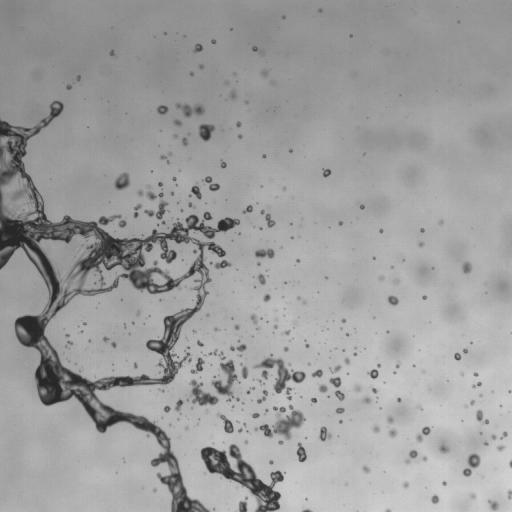droplet: (404, 449, 427, 464), (198, 123, 215, 141), (113, 172, 130, 190), (190, 356, 205, 374), (188, 181, 201, 200), (233, 495, 248, 511), (318, 426, 332, 441), (476, 409, 489, 424), (257, 273, 269, 285), (461, 261, 472, 273), (366, 368, 378, 379), (488, 499, 499, 511), (317, 383, 328, 394), (198, 113, 209, 124), (7, 115, 18, 126), (189, 130, 200, 141), (24, 138, 35, 149), (121, 209, 132, 220), (81, 211, 92, 222), (48, 212, 59, 223), (103, 223, 114, 234), (109, 227, 120, 238), (213, 231, 224, 242), (13, 246, 24, 257), (203, 249, 214, 260), (207, 266, 218, 277), (35, 276, 46, 287), (39, 286, 50, 297), (29, 305, 40, 316), (240, 317, 251, 328), (179, 323, 190, 334), (343, 338, 354, 349), (170, 343, 181, 354), (189, 346, 200, 357), (226, 350, 237, 361), (280, 352, 291, 363), (181, 361, 192, 372), (285, 361, 296, 372), (267, 366, 278, 377), (217, 371, 228, 382), (319, 373, 330, 384), (239, 377, 250, 388), (181, 387, 192, 398), (275, 392, 286, 403), (113, 401, 124, 412), (388, 402, 399, 413), (265, 415, 276, 426), (155, 418, 166, 429), (113, 420, 124, 431), (482, 424, 493, 435), (227, 432, 238, 443), (217, 441, 228, 452), (415, 442, 426, 453), (152, 444, 163, 455), (499, 450, 510, 461), (158, 462, 169, 473), (212, 471, 223, 482), (226, 478, 237, 489), (239, 485, 250, 496), (161, 490, 172, 501), (496, 493, 507, 504), (246, 499, 257, 510), (241, 204, 253, 214), (387, 295, 399, 305), (328, 364, 341, 373), (192, 43, 203, 53), (311, 369, 322, 379), (387, 427, 397, 438), (156, 105, 168, 114), (438, 444, 450, 453), (228, 89, 237, 100), (430, 494, 439, 504), (361, 396, 372, 404), (260, 69, 269, 78), (322, 168, 331, 177), (262, 293, 271, 302), (371, 424, 380, 433), (235, 93, 244, 102), (174, 109, 183, 118), (176, 127, 185, 136), (199, 183, 208, 192), (161, 184, 170, 193), (183, 207, 192, 216), (124, 213, 133, 222), (208, 219, 217, 228), (258, 285, 267, 294), (199, 303, 208, 312), (202, 343, 211, 352), (211, 355, 220, 364), (233, 366, 242, 375), (192, 372, 201, 381), (28, 377, 37, 386), (371, 377, 380, 386), (285, 378, 294, 387), (229, 382, 238, 391), (326, 383, 335, 392), (111, 384, 120, 393), (208, 387, 217, 396), (316, 391, 325, 400), (217, 393, 226, 402), (52, 401, 61, 410), (254, 403, 263, 412), (132, 407, 141, 416), (255, 416, 264, 425), (474, 420, 483, 429), (379, 425, 388, 434), (137, 428, 146, 437), (271, 432, 280, 441), (488, 439, 497, 448), (411, 441, 420, 450), (214, 442, 223, 451), (262, 476, 271, 485), (181, 477, 190, 486), (272, 482, 281, 491), (186, 490, 195, 499), (352, 384, 362, 392), (65, 340, 73, 349), (386, 415, 394, 424), (361, 465, 370, 473), (472, 381, 482, 388), (505, 435, 511, 446), (161, 505, 172, 511), (429, 505, 440, 511), (370, 386, 378, 394), (173, 119, 182, 126), (454, 352, 461, 361), (343, 356, 350, 365), (310, 396, 317, 405), (250, 412, 259, 419), (292, 319, 298, 329), (188, 202, 196, 209), (196, 339, 204, 346), (163, 405, 171, 412), (402, 481, 409, 489), (182, 137, 188, 146), (220, 159, 226, 168), (335, 407, 344, 413), (496, 445, 505, 451), (109, 49, 116, 56), (102, 336, 109, 343), (469, 492, 476, 499), (192, 66, 199, 73), (267, 71, 274, 78), (223, 87, 230, 94), (188, 101, 195, 108), (201, 102, 208, 109), (167, 103, 174, 110), (43, 108, 50, 115), (172, 125, 179, 132), (236, 126, 243, 133), (209, 130, 216, 137), (20, 155, 27, 162), (109, 175, 116, 182), (127, 175, 134, 182), (31, 177, 38, 184), (108, 182, 115, 189), (121, 186, 128, 193), (152, 187, 159, 194), (161, 194, 168, 201), (180, 201, 187, 208), (151, 205, 158, 212), (252, 205, 259, 212), (161, 212, 168, 219), (196, 212, 203, 219), (70, 213, 77, 220), (203, 219, 210, 226), (232, 224, 239, 231), (226, 227, 233, 234), (187, 228, 194, 235), (144, 229, 151, 236), (261, 243, 268, 250), (461, 255, 468, 262), (464, 255, 471, 262), (7, 256, 14, 263), (470, 264, 477, 271), (455, 265, 462, 272), (252, 277, 259, 284), (204, 282, 211, 289), (203, 295, 210, 302), (17, 310, 24, 317), (275, 310, 282, 317), (278, 324, 285, 331), (16, 342, 23, 349), (345, 350, 352, 357), (256, 355, 263, 362), (33, 358, 40, 365), (190, 358, 197, 365), (337, 358, 344, 365), (340, 363, 347, 370), (246, 367, 253, 374), (304, 373, 311, 380), (220, 379, 227, 386), (167, 380, 174, 387), (124, 384, 131, 391), (93, 388, 100, 395), (367, 391, 374, 398), (239, 392, 246, 399), (69, 395, 76, 402), (102, 398, 109, 405), (282, 399, 289, 406), (336, 400, 343, 407), (168, 401, 175, 408), (77, 403, 84, 410), (284, 408, 291, 415), (336, 412, 343, 419), (84, 414, 91, 421), (147, 415, 154, 422), (217, 419, 224, 426), (88, 420, 95, 427), (300, 421, 307, 428), (232, 422, 239, 429), (388, 422, 395, 429), (105, 425, 112, 432), (289, 426, 296, 433), (148, 432, 155, 439), (277, 433, 284, 440), (494, 438, 501, 445), (499, 438, 506, 445), (442, 439, 449, 446), (204, 440, 211, 447), (169, 445, 176, 452), (158, 446, 165, 453), (416, 449, 423, 456), (439, 452, 446, 459), (240, 454, 247, 461), (198, 459, 205, 466), (478, 459, 485, 466), (462, 461, 469, 468), (470, 466, 477, 473), (179, 470, 186, 477), (161, 483, 168, 490), (232, 503, 239, 510), (395, 360, 401, 368), (110, 341, 116, 348), (462, 347, 468, 354), (416, 404, 423, 410), (418, 241, 424, 247), (378, 275, 384, 281), (234, 324, 240, 330), (283, 346, 289, 352), (491, 434, 497, 440), (359, 202, 364, 209), (392, 278, 399, 283), (213, 326, 220, 331), (211, 38, 216, 44), (252, 46, 258, 51), (198, 64, 204, 69), (269, 80, 275, 85), (66, 84, 72, 89), (236, 121, 241, 127), (438, 219, 443, 225), (251, 223, 257, 228), (459, 371, 465, 376), (470, 400, 475, 406), (152, 487, 157, 493), (136, 310, 140, 317), (133, 362, 137, 369), (507, 430, 511, 437), (495, 507, 502, 511), (189, 71, 194, 76), (224, 80, 229, 85), (173, 134, 178, 139), (237, 134, 242, 139), (338, 221, 343, 226), (341, 318, 346, 323), (345, 332, 350, 337), (473, 372, 478, 377), (201, 43, 206, 48), (190, 44, 195, 49), (256, 44, 261, 49), (196, 50, 201, 55), (71, 74, 76, 79), (66, 79, 71, 84), (235, 90, 240, 95), (58, 97, 63, 102), (47, 98, 52, 103), (161, 100, 166, 105), (179, 100, 184, 105), (152, 108, 157, 113), (164, 111, 169, 116), (159, 113, 164, 118), (38, 114, 43, 119), (0, 116, 5, 121), (52, 116, 57, 121), (4, 117, 9, 122), (169, 121, 174, 126), (240, 121, 245, 126), (47, 122, 52, 127), (24, 123, 29, 128), (39, 127, 44, 132), (33, 133, 38, 138), (177, 135, 182, 140), (186, 136, 191, 141), (197, 136, 202, 141), (24, 145, 29, 150), (181, 145, 186, 150), (216, 160, 221, 165), (24, 168, 29, 173), (30, 175, 35, 180), (175, 178, 180, 183), (211, 178, 216, 183), (171, 186, 176, 191), (142, 188, 147, 193), (213, 189, 218, 194), (191, 193, 196, 198), (249, 200, 254, 205), (163, 204, 168, 209), (136, 208, 141, 213), (113, 209, 118, 214), (184, 212, 189, 217), (104, 213, 109, 218), (151, 214, 156, 219), (230, 214, 235, 219), (120, 215, 125, 220), (269, 215, 274, 220), (85, 217, 90, 222), (93, 217, 98, 222), (114, 217, 119, 222), (156, 218, 161, 223), (262, 219, 267, 224), (165, 228, 170, 233), (135, 233, 140, 238), (126, 234, 131, 239), (208, 237, 213, 242), (413, 240, 418, 245), (422, 244, 427, 249), (202, 245, 207, 250), (221, 245, 226, 250), (418, 246, 423, 251), (273, 250, 278, 255), (250, 251, 255, 256), (263, 254, 268, 259), (23, 255, 28, 260), (217, 256, 222, 261), (256, 256, 261, 261), (202, 259, 207, 264), (28, 261, 33, 266), (31, 265, 36, 270), (224, 265, 229, 270), (218, 267, 223, 272), (261, 270, 266, 275), (253, 271, 258, 276), (207, 272, 212, 277), (465, 272, 470, 277), (268, 291, 273, 296), (391, 291, 396, 296), (259, 293, 264, 298), (267, 298, 272, 303), (297, 299, 302, 304), (397, 300, 402, 305), (385, 301, 390, 306), (248, 309, 253, 314), (193, 311, 198, 316), (341, 313, 346, 318), (262, 315, 267, 320), (10, 318, 15, 323), (247, 318, 252, 323), (232, 319, 237, 324), (256, 319, 261, 324), (269, 320, 274, 325), (341, 322, 346, 327), (229, 325, 234, 330), (268, 326, 273, 331), (274, 328, 279, 333), (341, 328, 346, 333), (235, 329, 240, 334), (251, 329, 256, 334), (10, 330, 15, 335), (288, 331, 293, 336), (13, 337, 18, 342), (239, 339, 244, 344), (283, 341, 288, 346), (300, 341, 305, 346), (233, 342, 238, 347), (245, 343, 250, 348), (196, 345, 201, 350), (209, 346, 214, 351), (336, 347, 341, 352), (233, 348, 238, 353), (241, 349, 246, 354), (459, 351, 464, 356), (264, 353, 269, 358), (178, 354, 183, 359), (272, 354, 277, 359), (348, 354, 353, 359), (201, 355, 206, 360), (222, 358, 227, 363), (330, 363, 335, 368), (372, 364, 377, 369), (311, 367, 316, 372), (376, 367, 381, 372), (197, 370, 202, 375), (331, 373, 336, 378), (173, 374, 178, 379), (246, 374, 251, 379), (376, 374, 381, 379), (214, 376, 219, 381), (260, 376, 265, 381), (474, 376, 479, 381), (339, 377, 344, 382), (195, 378, 200, 383), (301, 378, 306, 383), (232, 379, 237, 384), (254, 381, 259, 386), (146, 383, 151, 388), (158, 383, 163, 388), (188, 384, 193, 389), (337, 385, 342, 390), (375, 391, 380, 396), (258, 392, 263, 397), (180, 395, 185, 400), (343, 395, 348, 400), (230, 398, 235, 403), (392, 398, 397, 403), (288, 399, 293, 404), (465, 399, 470, 404), (260, 400, 265, 405), (369, 400, 374, 405), (39, 402, 44, 407), (205, 402, 210, 407), (275, 402, 280, 407), (362, 402, 367, 407), (179, 404, 184, 409), (292, 405, 297, 410), (268, 407, 273, 412), (415, 408, 420, 413), (271, 409, 276, 414), (160, 410, 165, 415), (302, 412, 307, 417), (471, 413, 476, 418), (225, 414, 230, 419), (392, 414, 397, 419), (481, 414, 486, 419), (368, 422, 373, 427), (420, 422, 425, 427), (248, 427, 253, 432), (326, 427, 331, 432), (368, 428, 373, 433), (417, 428, 422, 433), (258, 429, 263, 434), (315, 429, 320, 434), (240, 430, 245, 435), (428, 430, 433, 435), (165, 431, 170, 436), (223, 431, 228, 436), (375, 431, 380, 436), (497, 431, 502, 436), (395, 432, 400, 437), (411, 436, 416, 441), (486, 437, 491, 442), (317, 439, 322, 444), (301, 442, 306, 447), (279, 443, 284, 448), (293, 445, 298, 450), (493, 448, 498, 453), (501, 448, 506, 453), (469, 449, 474, 454), (475, 450, 480, 455), (153, 453, 158, 458), (404, 453, 409, 458), (426, 456, 431, 461), (304, 457, 309, 462), (177, 460, 182, 465), (419, 460, 424, 465), (504, 461, 509, 466), (366, 462, 371, 467), (357, 466, 362, 471), (360, 470, 365, 475), (460, 474, 465, 479), (465, 475, 470, 480), (155, 478, 160, 483), (398, 479, 403, 484), (232, 480, 237, 485), (408, 482, 413, 487), (399, 486, 404, 491), (147, 487, 152, 492), (470, 487, 475, 492), (503, 491, 508, 496), (427, 493, 432, 498), (437, 494, 442, 499), (475, 494, 480, 499), (239, 496, 244, 501), (490, 496, 495, 501), (276, 498, 281, 503), (437, 498, 442, 503), (470, 498, 475, 503), (485, 502, 490, 507), (203, 503, 208, 508), (385, 503, 390, 508), (303, 504, 308, 509), (76, 75, 80, 81), (296, 296, 302, 300), (317, 8, 322, 12), (288, 148, 292, 153), (172, 176, 176, 181), (282, 186, 286, 191), (379, 228, 383, 233), (420, 228, 425, 232), (256, 261, 260, 266), (422, 295, 427, 299), (302, 300, 306, 305), (65, 333, 69, 338), (377, 363, 381, 368), (397, 397, 401, 402), (244, 439, 248, 444), (278, 440, 283, 444), (483, 441, 488, 445), (442, 480, 446, 485), (281, 15, 285, 19), (232, 72, 236, 76), (244, 100, 248, 104), (262, 154, 266, 158), (170, 191, 174, 195), (176, 200, 180, 204), (258, 226, 262, 230), (296, 258, 300, 262), (390, 265, 394, 269), (274, 317, 278, 321), (192, 329, 196, 333), (353, 352, 357, 356), (421, 369, 425, 373), (478, 393, 482, 397), (464, 404, 468, 408), (338, 419, 342, 423), (184, 426, 188, 430), (269, 460, 273, 464), (344, 482, 348, 486), (158, 298, 163, 301), (235, 420, 240, 423), (508, 484, 511, 489), (214, 508, 219, 511), (274, 508, 279, 511), (390, 508, 395, 511), (488, 508, 493, 511), (187, 132, 190, 136), (362, 152, 366, 155), (180, 208, 183, 212), (290, 236, 294, 239), (279, 246, 283, 249), (324, 276, 328, 279), (283, 281, 287, 284), (131, 321, 134, 325), (82, 322, 86, 325), (79, 330, 83, 333), (469, 341, 473, 344), (508, 389, 511, 393), (206, 409, 209, 413), (457, 20, 460, 23), (164, 32, 167, 35), (349, 34, 352, 37), (178, 169, 181, 172), (150, 170, 153, 173), (175, 183, 178, 186), (289, 222, 292, 225), (238, 232, 241, 235), (372, 256, 375, 259), (431, 266, 434, 269), (252, 275, 255, 278), (253, 285, 256, 288), (206, 313, 209, 316), (372, 316, 375, 319), (265, 320, 268, 323), (386, 330, 389, 333), (88, 339, 91, 342), (354, 346, 357, 349), (342, 348, 345, 351), (307, 362, 310, 365), (412, 364, 415, 367), (393, 371, 396, 374), (346, 372, 349, 375), (491, 390, 494, 393), (299, 395, 302, 398), (499, 404, 502, 407), (190, 406, 193, 409), (241, 408, 244, 411), (176, 417, 179, 420), (168, 423, 171, 426), (479, 432, 482, 435), (304, 436, 307, 439), (317, 11, 320, 14), (285, 15, 288, 18), (278, 16, 281, 19), (282, 18, 285, 21), (229, 24, 232, 27), (163, 28, 166, 31), (229, 30, 232, 33), (160, 31, 163, 34), (164, 34, 167, 37), (346, 34, 349, 37), (352, 34, 355, 37), (213, 36, 216, 39), (208, 37, 211, 40), (215, 40, 218, 43), (211, 43, 214, 46), (107, 48, 110, 51), (113, 50, 116, 53), (253, 50, 256, 53), (109, 55, 112, 58), (199, 61, 202, 64), (186, 71, 189, 74), (75, 72, 78, 75), (187, 74, 190, 77), (79, 77, 82, 80), (75, 80, 78, 83), (70, 83, 73, 86), (63, 84, 66, 87), (68, 88, 71, 91), (233, 124, 236, 127), (235, 136, 238, 139), (240, 137, 243, 140), (186, 144, 189, 147), (291, 147, 294, 150), (285, 148, 288, 151), (262, 150, 265, 153), (291, 150, 294, 153), (360, 150, 363, 153), (286, 151, 289, 154), (164, 153, 167, 156), (259, 153, 262, 156), (265, 154, 268, 157), (166, 156, 169, 159), (263, 157, 266, 160), (163, 158, 166, 161), (222, 158, 225, 161), (168, 163, 171, 166), (150, 166, 153, 169), (328, 166, 331, 169), (222, 167, 225, 170), (320, 169, 323, 172), (147, 170, 150, 173), (152, 170, 155, 173), (330, 170, 333, 173), (173, 173, 176, 176), (208, 173, 211, 176), (320, 174, 323, 177), (327, 174, 330, 177), (169, 176, 172, 179), (160, 179, 163, 182), (172, 180, 175, 183), (155, 181, 158, 184), (34, 184, 37, 187), (188, 186, 191, 189), (285, 186, 288, 189), (173, 191, 176, 194), (42, 197, 45, 200), (255, 198, 258, 201), (185, 202, 188, 205), (363, 203, 366, 206), (243, 206, 246, 209), (357, 207, 360, 210), (363, 207, 366, 210), (43, 210, 46, 213), (245, 211, 248, 214), (210, 213, 213, 216), (262, 213, 265, 216), (340, 218, 343, 221), (288, 219, 291, 222), (239, 220, 242, 223), (292, 222, 295, 225), (335, 222, 338, 225), (341, 223, 344, 226), (288, 224, 291, 227), (420, 224, 423, 227), (123, 225, 126, 228), (271, 225, 274, 228), (379, 225, 382, 228), (423, 226, 426, 229), (256, 227, 259, 230), (376, 228, 379, 231), (417, 228, 420, 231), (259, 229, 262, 232), (382, 230, 385, 233), (240, 231, 243, 234), (377, 231, 380, 234), (419, 231, 422, 234), (422, 231, 425, 234), (289, 233, 292, 236), (237, 234, 240, 237), (293, 235, 296, 238), (289, 238, 292, 241), (295, 255, 298, 258), (369, 256, 372, 259), (375, 256, 378, 259), (399, 257, 402, 260), (404, 257, 407, 260), (299, 258, 302, 261), (371, 259, 374, 262), (295, 261, 298, 264), (402, 261, 405, 264), (391, 262, 394, 265), (393, 265, 396, 268), (428, 266, 431, 269), (325, 273, 328, 276), (263, 275, 266, 278), (322, 277, 325, 280), (282, 278, 285, 281), (285, 278, 288, 281), (282, 283, 285, 286), (250, 284, 253, 287), (421, 292, 424, 295), (424, 292, 427, 295), (298, 293, 301, 296), (293, 295, 296, 298), (419, 296, 422, 299), (283, 303, 286, 306), (283, 310, 286, 313), (232, 315, 235, 318), (256, 316, 259, 319), (339, 316, 342, 319), (374, 317, 377, 320), (345, 318, 348, 321), (253, 324, 256, 327), (325, 324, 328, 327), (216, 325, 219, 328), (336, 327, 339, 330), (384, 327, 387, 330), (323, 328, 326, 331), (388, 328, 391, 331), (255, 329, 258, 332), (215, 330, 218, 333), (347, 330, 350, 333), (383, 331, 386, 334), (269, 332, 272, 335), (387, 332, 390, 335), (348, 334, 351, 337), (344, 335, 347, 338), (236, 336, 239, 339), (468, 338, 471, 341), (471, 338, 474, 341), (199, 339, 202, 342), (290, 339, 293, 342), (187, 343, 190, 346), (355, 343, 358, 346), (341, 345, 344, 348), (463, 345, 466, 348), (305, 347, 308, 350), (185, 348, 188, 351), (331, 348, 334, 351), (353, 349, 356, 352), (467, 349, 470, 352), (319, 351, 322, 354), (328, 351, 331, 354), (315, 354, 318, 357), (451, 354, 454, 357), (453, 358, 456, 361), (376, 360, 379, 363), (413, 361, 416, 364), (409, 362, 412, 365), (380, 363, 383, 366), (398, 365, 401, 368), (411, 366, 414, 369), (393, 367, 396, 370), (474, 369, 477, 372), (348, 370, 351, 373), (477, 371, 480, 374), (390, 372, 393, 375), (470, 372, 473, 375), (393, 373, 396, 376), (367, 374, 370, 377), (459, 375, 462, 378), (373, 377, 376, 380), (480, 380, 483, 383), (473, 381, 476, 384), (480, 383, 483, 386), (468, 384, 471, 387), (373, 385, 376, 388), (505, 391, 508, 394), (343, 392, 346, 395), (247, 393, 250, 396), (311, 394, 314, 397), (291, 396, 294, 399), (315, 396, 318, 399), (471, 396, 474, 399), (400, 397, 403, 400), (175, 398, 178, 401), (376, 398, 379, 401), (253, 399, 256, 402), (226, 400, 229, 403), (308, 400, 311, 403), (396, 401, 399, 404), (499, 401, 502, 404), (379, 403, 382, 406), (467, 403, 470, 406), (240, 404, 243, 407), (161, 405, 164, 408), (421, 405, 424, 408), (496, 405, 499, 408), (375, 406, 378, 409), (500, 406, 503, 409), (232, 407, 235, 410), (262, 409, 265, 412), (332, 409, 335, 412), (378, 409, 381, 412), (251, 410, 254, 413), (461, 416, 464, 419), (199, 417, 202, 420), (457, 418, 460, 421), (174, 419, 177, 422), (195, 419, 198, 422), (335, 419, 338, 422), (341, 420, 344, 423), (488, 420, 491, 423), (198, 422, 201, 425), (338, 423, 341, 426), (483, 423, 486, 426), (256, 424, 259, 427), (241, 425, 244, 428), (428, 425, 431, 428), (242, 428, 245, 431), (476, 432, 479, 435), (265, 435, 268, 438), (502, 436, 505, 439), (247, 439, 250, 442), (481, 439, 484, 442), (483, 444, 486, 447), (295, 454, 298, 457), (124, 457, 127, 460), (120, 458, 123, 461), (266, 458, 269, 461), (299, 461, 302, 464), (272, 469, 275, 472), (440, 478, 443, 481), (443, 478, 446, 481), (439, 482, 442, 485), (445, 482, 448, 485), (301, 496, 304, 499), (307, 497, 310, 500), (214, 506, 217, 509), (273, 309, 277, 311), (326, 395, 330, 397), (213, 507, 215, 511), (230, 28, 233, 30), (183, 35, 186, 37), (159, 129, 162, 131), (260, 185, 263, 187), (204, 202, 207, 204), (171, 217, 173, 220), (484, 291, 487, 293), (281, 296, 284, 298), (120, 298, 122, 301), (283, 307, 285, 310), (230, 317, 233, 319), (142, 322, 145, 324), (340, 327, 342, 330), (326, 328, 329, 330), (128, 332, 130, 335), (251, 335, 254, 337), (334, 347, 337, 349), (317, 352, 319, 355), (209, 364, 212, 366), (383, 381, 386, 383), (509, 387, 511, 390), (509, 392, 511, 395), (509, 498, 511, 501), (256, 202, 258, 204), (328, 226, 330, 228), (81, 244, 83, 246), (181, 259, 183, 261), (236, 268, 238, 270), (317, 291, 319, 293), (283, 314, 285, 316), (297, 316, 299, 318), (429, 321, 431, 323), (77, 325, 79, 327), (321, 329, 323, 331), (412, 335, 414, 337), (363, 347, 365, 349), (418, 349, 420, 351), (112, 369, 114, 371), (199, 376, 201, 378), (250, 399, 252, 401), (379, 407, 381, 409), (161, 416, 163, 418), (461, 419, 463, 421), (337, 435, 339, 437), (222, 441, 224, 443), (305, 498, 307, 500), (225, 199, 227, 200), (298, 236, 300, 237), (232, 291, 234, 292), (332, 320, 334, 321), (354, 328, 355, 330), (329, 350, 331, 351), (112, 363, 113, 365), (383, 471, 385, 472), (115, 472, 117, 473), (356, 510, 358, 511), (158, 145, 159, 146), (319, 342, 320, 343), (149, 390, 150, 391)
ligament: (200, 348, 244, 404), (175, 102, 205, 117), (462, 453, 480, 477), (329, 376, 345, 401), (216, 411, 234, 433), (201, 176, 220, 191), (260, 209, 275, 228), (415, 426, 431, 442), (208, 259, 231, 269), (296, 442, 307, 462), (254, 248, 275, 258), (239, 362, 249, 379), (257, 388, 268, 403), (252, 375, 265, 386), (133, 203, 142, 218), (245, 386, 255, 394), (272, 324, 278, 335), (280, 329, 291, 335), (500, 430, 507, 439), (304, 339, 309, 348), (301, 508, 313, 511), (287, 337, 294, 342), (264, 408, 268, 415), (196, 418, 200, 425), (145, 314, 150, 319), (401, 257, 405, 263), (185, 335, 189, 341), (384, 508, 391, 511), (255, 305, 260, 309), (123, 323, 126, 329), (375, 396, 378, 402), (231, 405, 234, 411), (122, 457, 125, 463), (509, 459, 511, 468), (66, 358, 70, 362), (265, 269, 269, 271), (113, 230, 115, 232), (87, 126, 88, 129), (510, 331, 511, 334)
